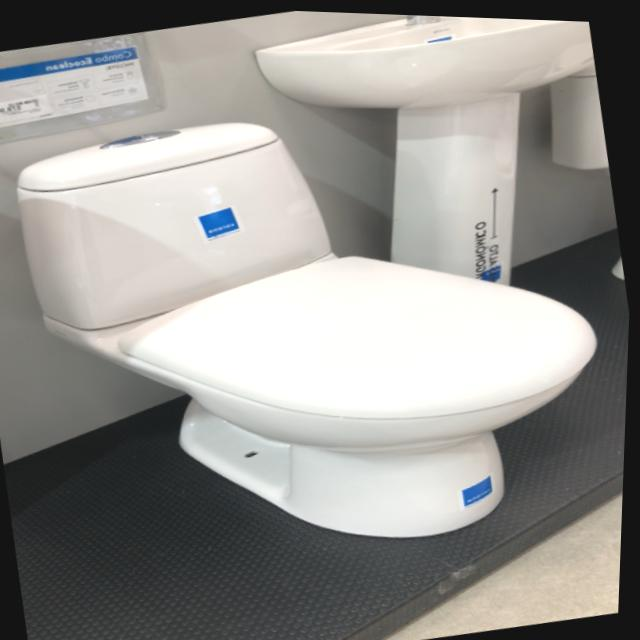toilet: (0, 53, 638, 600)
